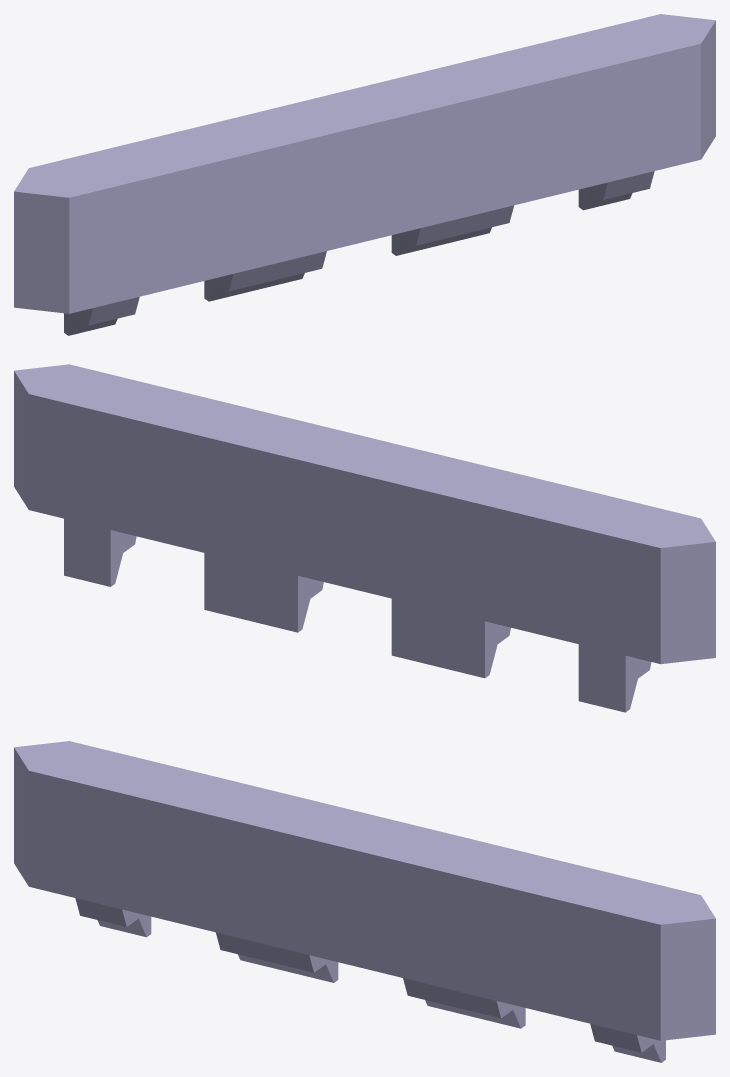
Rendered from cornice_extended.fbx.
The picture shows the model from 3 angles, top to bottom: view 1: azimuth 30°, elevation 25°; view 2: azimuth 150°, elevation 25°; view 3: azimuth 330°, elevation 25°; orthographic projection.
Visible parts, largest first — view 1: cornice_extended; view 2: cornice_extended; view 3: cornice_extended.
Part boxes in pixels (x1,y1,x2,y2): cornice_extended: (14,14,715,335); cornice_extended: (14,364,715,712); cornice_extended: (14,741,715,1062).
Size of the model in its own units: 12.5 by 2.94 by 1.25.
